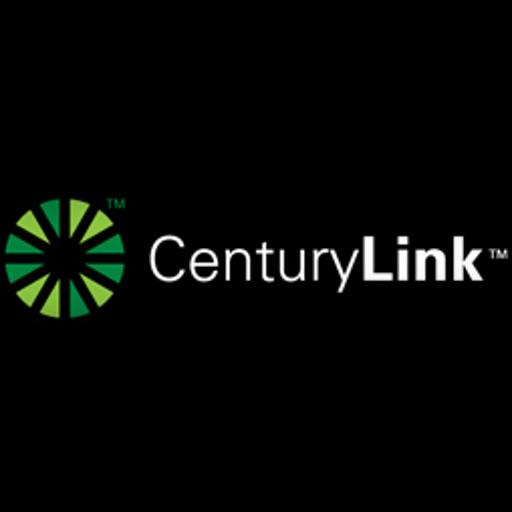CenturyLink: (0, 180, 512, 331)
